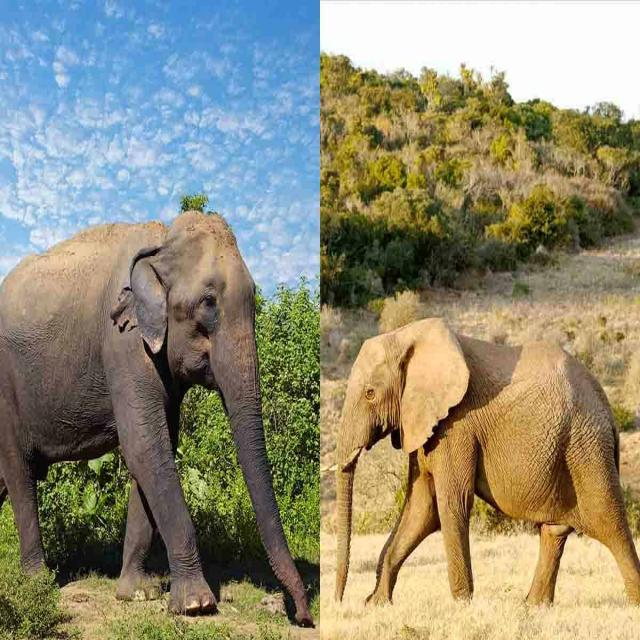Elephant: (0, 203, 311, 626), (330, 297, 640, 611)
